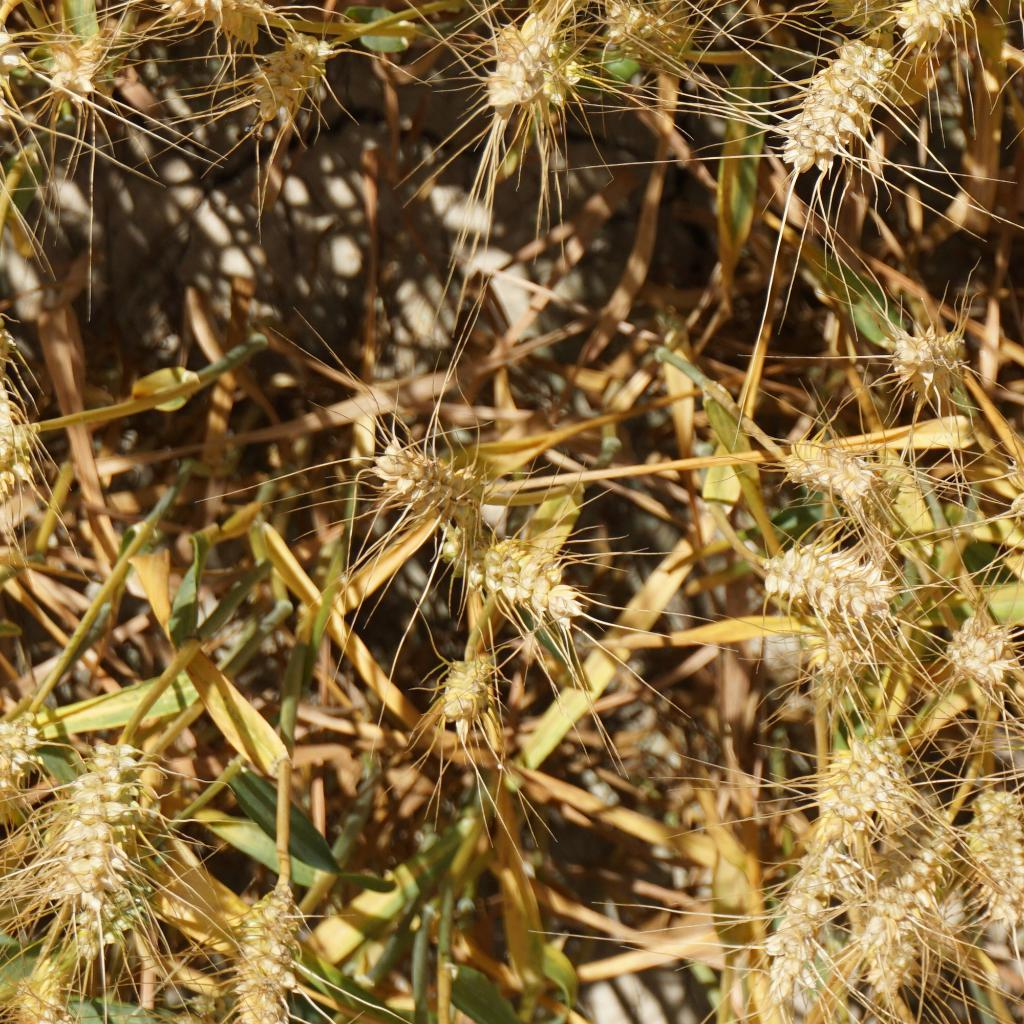0-0: (17, 740, 180, 905), (747, 15, 898, 186), (711, 510, 892, 649), (29, 726, 154, 911), (433, 504, 586, 628), (757, 418, 907, 519), (865, 820, 948, 980), (461, 15, 578, 122), (776, 821, 848, 990), (227, 875, 306, 1024), (787, 609, 891, 704), (246, 24, 332, 137), (373, 438, 486, 522), (826, 730, 920, 826), (967, 781, 1024, 925), (77, 855, 153, 950), (930, 617, 1024, 689), (136, 0, 280, 46), (886, 324, 971, 401), (430, 649, 501, 735), (38, 26, 108, 108), (0, 699, 43, 822), (598, 0, 684, 61), (8, 954, 80, 1024), (885, 0, 986, 45), (0, 299, 32, 431), (0, 444, 33, 540), (1000, 453, 1024, 531)
